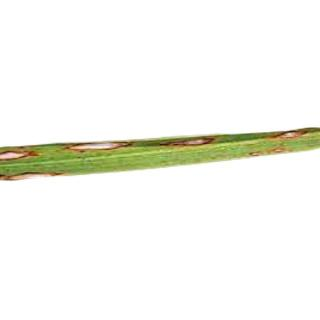Blast: (56, 137, 136, 154), (260, 124, 312, 146), (239, 144, 306, 161), (154, 133, 222, 149), (0, 169, 72, 180), (0, 146, 30, 165)
